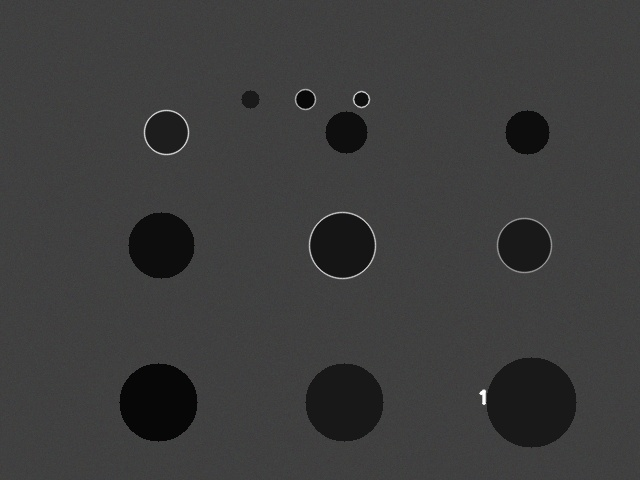hole: (486, 357, 576, 447), (119, 363, 197, 441), (305, 363, 383, 441), (128, 212, 194, 278), (309, 212, 375, 278), (497, 218, 551, 272), (144, 110, 188, 154), (505, 110, 549, 154), (325, 111, 367, 153), (295, 89, 315, 109), (241, 90, 259, 108), (353, 91, 369, 107)
